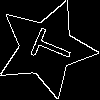T: (21, 23, 76, 69)
